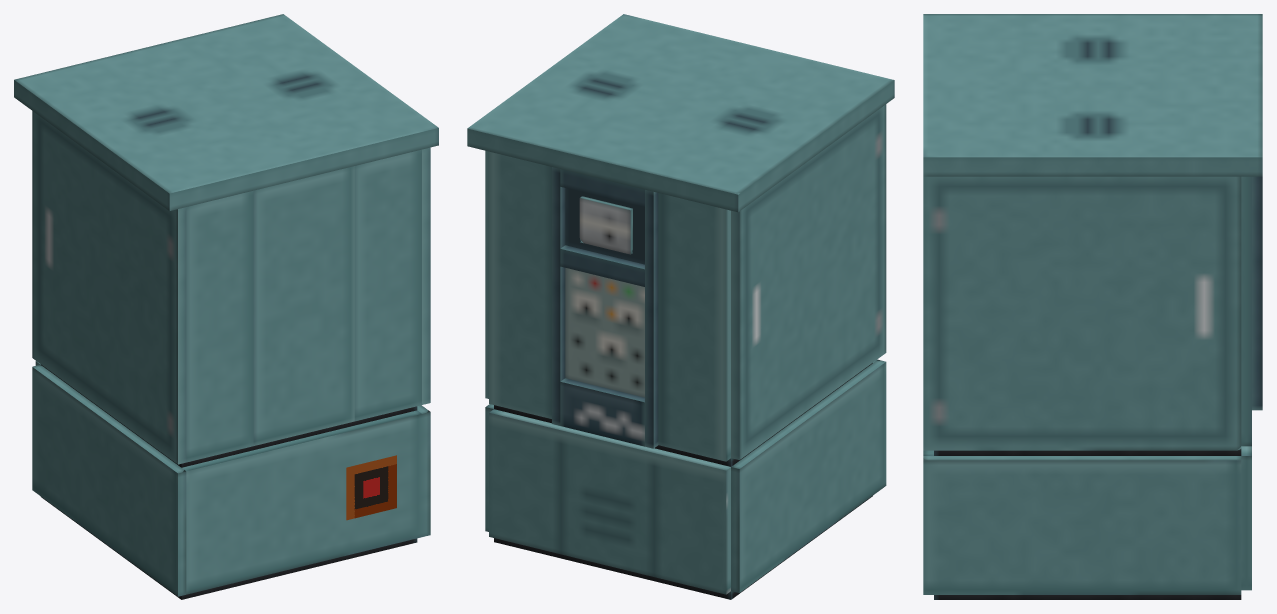
Rendered from era2_drum_computer_double_sided.obj.
The picture shows the model from 3 angles, left to right: view 1: azimuth 30°, elevation 25°; view 2: azimuth 150°, elevation 25°; view 3: azimuth 270°, elevation 25°; orthographic projection. The views are drawn at different scales.
Parts seen in each view (by area): view 1: era2_drum_computer; view 2: era2_drum_computer; view 3: era2_drum_computer.
Part boxes in pixels (box(x1,y1,x2,y2)): era2_drum_computer: box(14, 14, 438, 599); era2_drum_computer: box(467, 14, 894, 599); era2_drum_computer: box(923, 14, 1262, 599).
Size of the model in its own units: 2 by 2.94 by 2.
